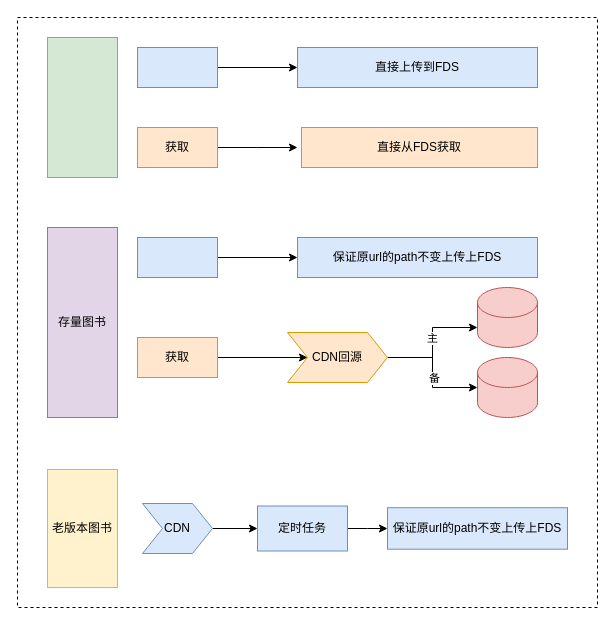
The diagram is 615 pixels wide and 625 high, and some of its shapes have lost their labels. The centre of each missing label's shape, as x and y in pixels:
FDS: pixel 507 317
ISS: pixel 507 387
刷库: pixel 177 257
增量图书: pixel 82 107
更新/新增: pixel 177 67
